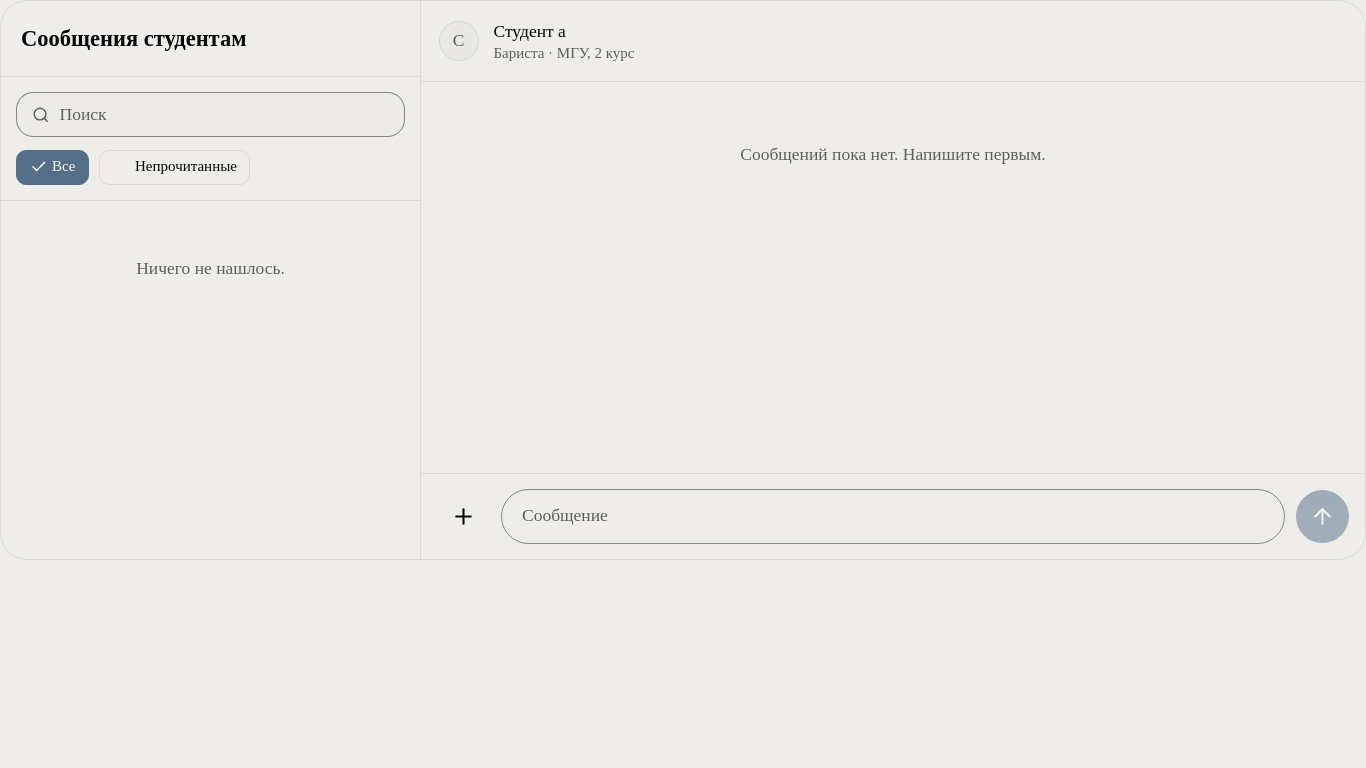
it: черновик в поле ввода › отправка не удалась — текст остаётся в поле и сохраняется как черновик
The width and height of the screenshot is (1366, 768).
Type "Не ушло" into the text box named "Текст сообщения" at (893, 516), box [501,489,1285,544]
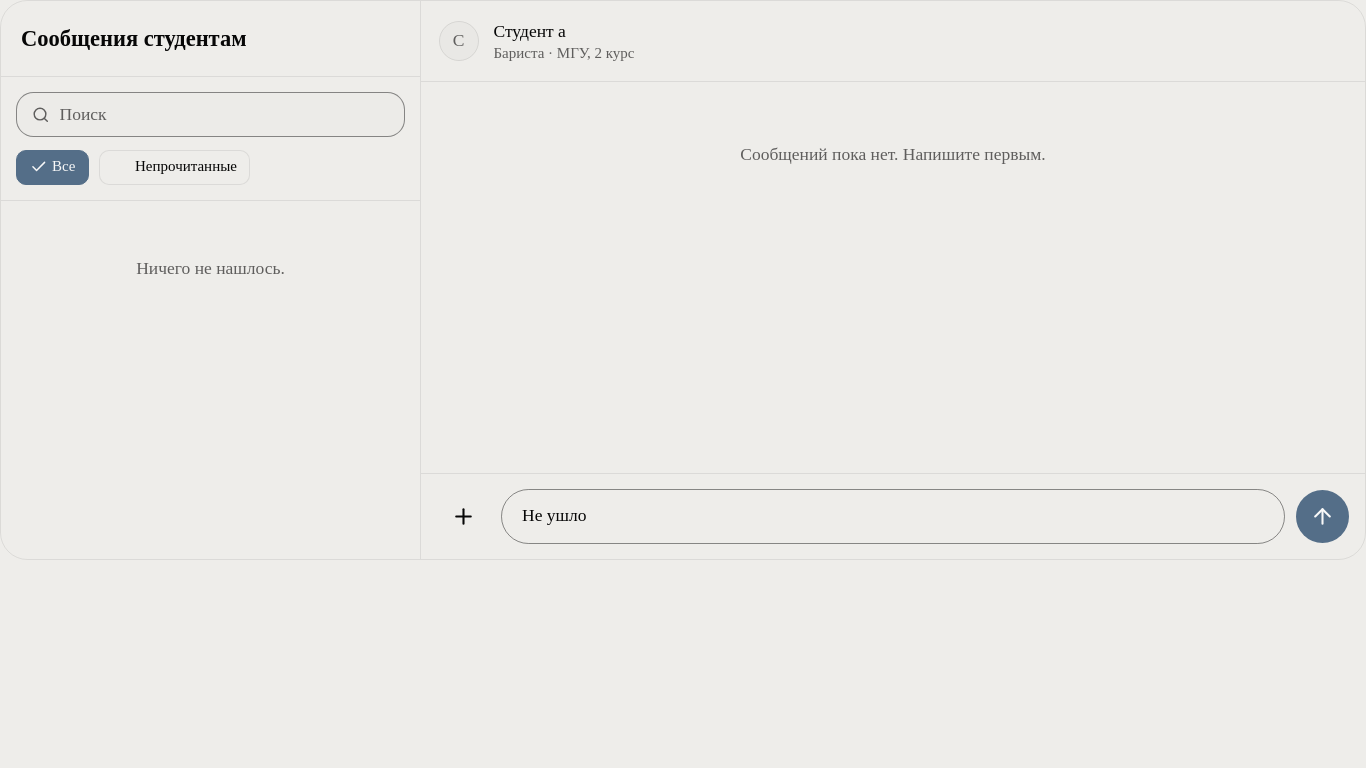
Click the button named "Отправить" at (1322, 516), box [1295,489,1350,544]
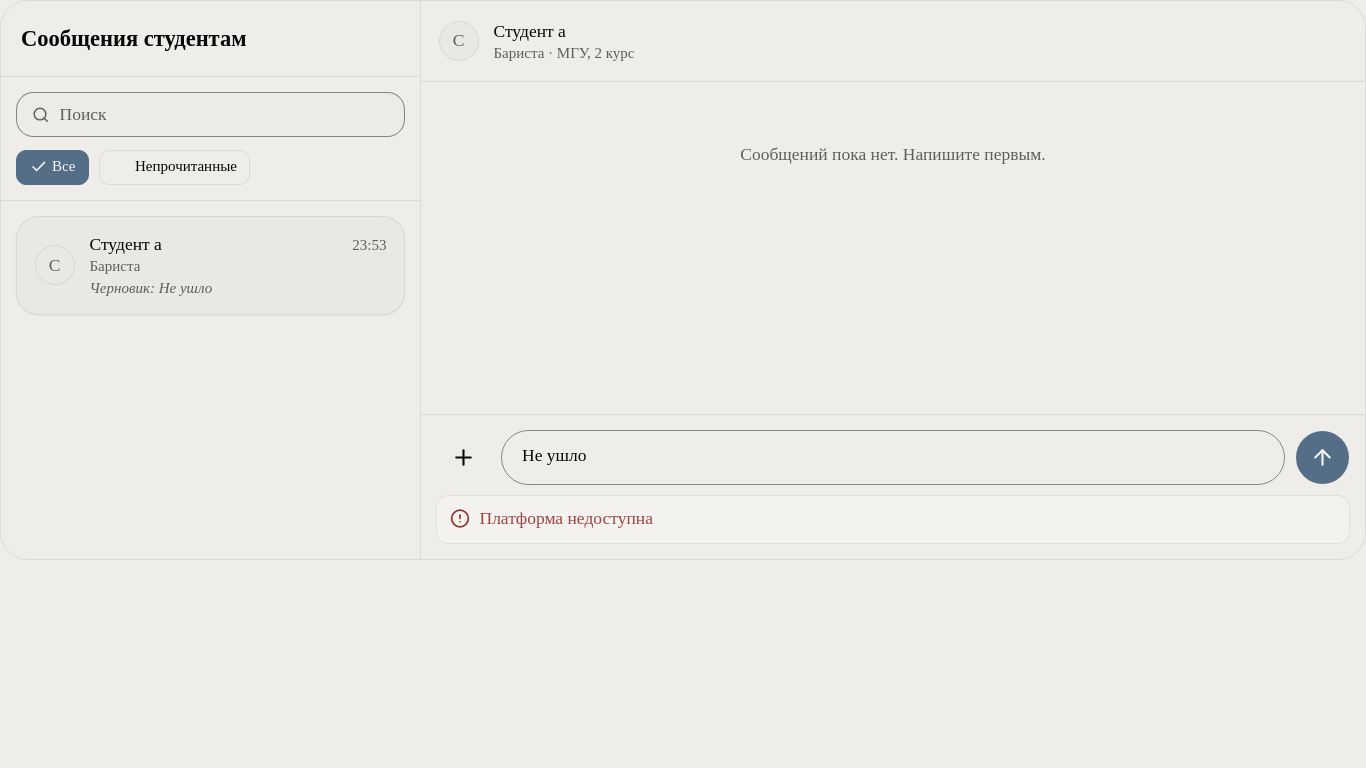
Check: the text "Платформа недоступна" is shown, box [480,508,653,528]
